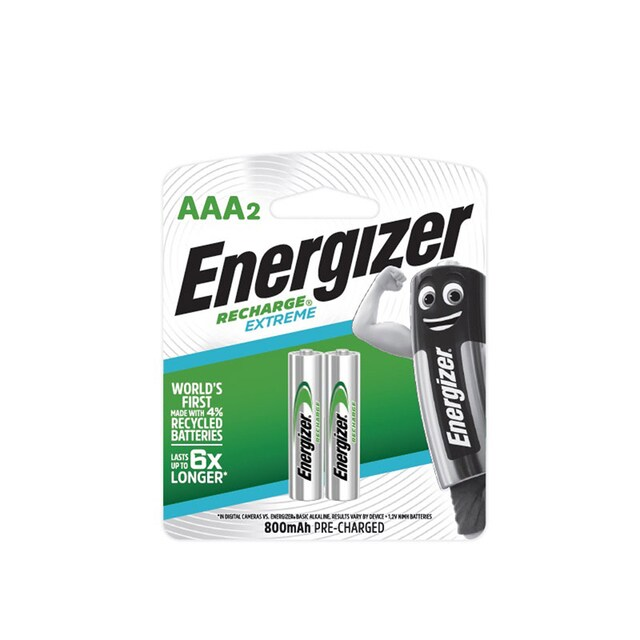Battery: (285, 347, 326, 504), (324, 343, 363, 504)
